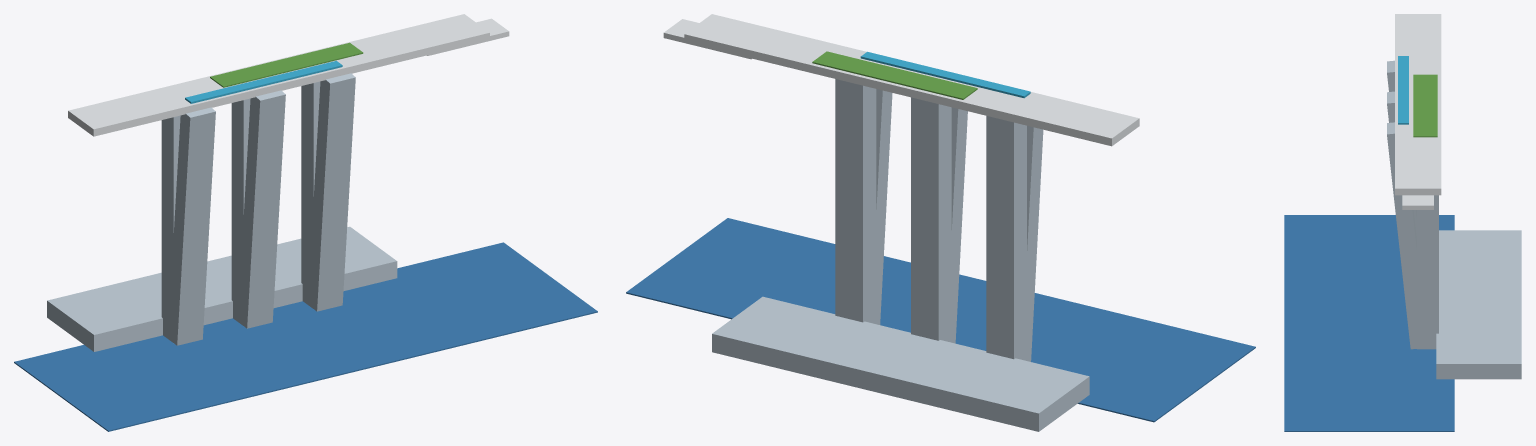
3 views of the same model, side by side, from view 1: azimuth 30°, elevation 25°; view 2: azimuth 150°, elevation 25°; view 3: azimuth 270°, elevation 25° (orthographic). The views are drawn at different scales.
Size of the model in its own units: 420 by 204 by 195.
